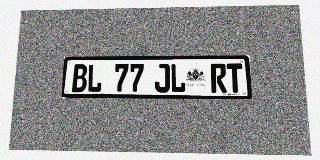7: (113, 64, 129, 92), (129, 64, 144, 92)
B: (72, 64, 87, 92)
J: (155, 64, 170, 92)
L: (170, 64, 186, 92), (87, 64, 102, 92)
R: (210, 63, 227, 93)
T: (226, 63, 243, 93)
